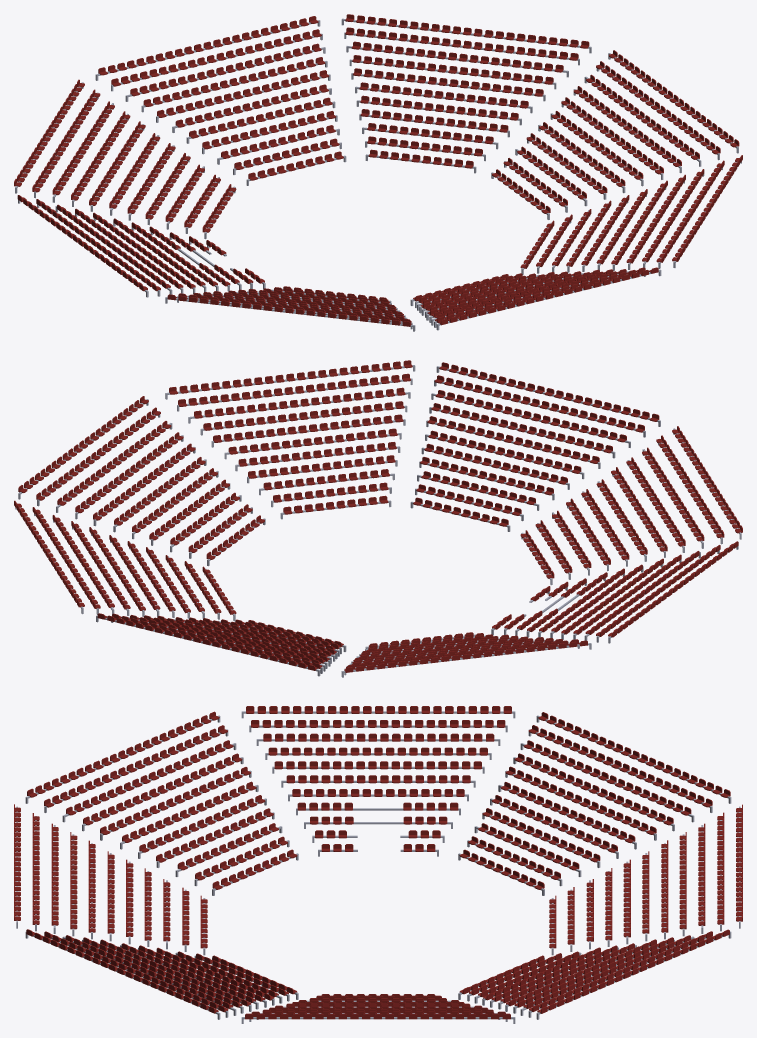
File: Arena_seats_custom.fbx
3 views of the same model, one above another, from view 1: azimuth 30°, elevation 25°; view 2: azimuth 150°, elevation 25°; view 3: azimuth 270°, elevation 25° (orthographic). The views are drawn at different scales.
Visible parts, largest first — view 1: seats 2.004, seats 2.003, seats 2.005, seats 2.002, seats 2.001, seats 2.006, seats 2.007, seats 2.008; view 2: seats 2.006, seats 2.007, seats 2.005, seats 2.008, seats 2.001, seats 2.004, seats 2.003, seats 2.002; view 3: seats 2.001, seats 2.002, seats 2.008, seats 2.006, seats 2.004, seats 2.007, seats 2.003, seats 2.005.
Boxes of the visible parts, x1,y1,x2,y2 form: seats 2.004: [341, 14, 591, 173]; seats 2.003: [95, 16, 346, 185]; seats 2.005: [491, 50, 739, 219]; seats 2.002: [14, 79, 236, 239]; seats 2.001: [17, 195, 265, 297]; seats 2.006: [520, 155, 742, 274]; seats 2.007: [410, 267, 661, 330]; seats 2.008: [165, 286, 415, 331]; seats 2.006: [165, 360, 415, 519]; seats 2.007: [410, 362, 660, 531]; seats 2.005: [18, 396, 265, 566]; seats 2.008: [520, 426, 742, 585]; seats 2.001: [491, 541, 738, 643]; seats 2.004: [14, 500, 236, 620]; seats 2.003: [96, 613, 346, 676]; seats 2.002: [341, 632, 591, 677]; seats 2.001: [241, 706, 515, 856]; seats 2.002: [458, 712, 731, 895]; seats 2.008: [25, 711, 298, 895]; seats 2.006: [25, 929, 298, 1019]; seats 2.004: [458, 929, 731, 1019]; seats 2.007: [14, 804, 207, 955]; seats 2.003: [549, 804, 742, 955]; seats 2.005: [241, 994, 515, 1023].
Size of the model in its own units: 5570 by 588 by 5570.
